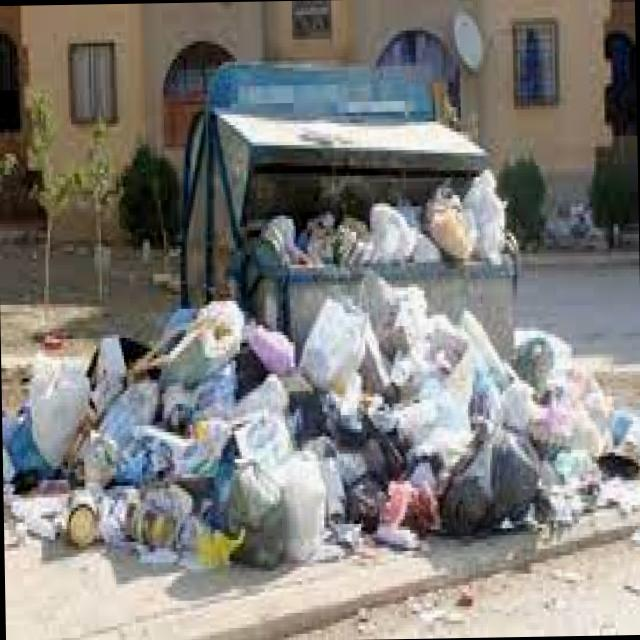garbage: (0, 47, 640, 556)
